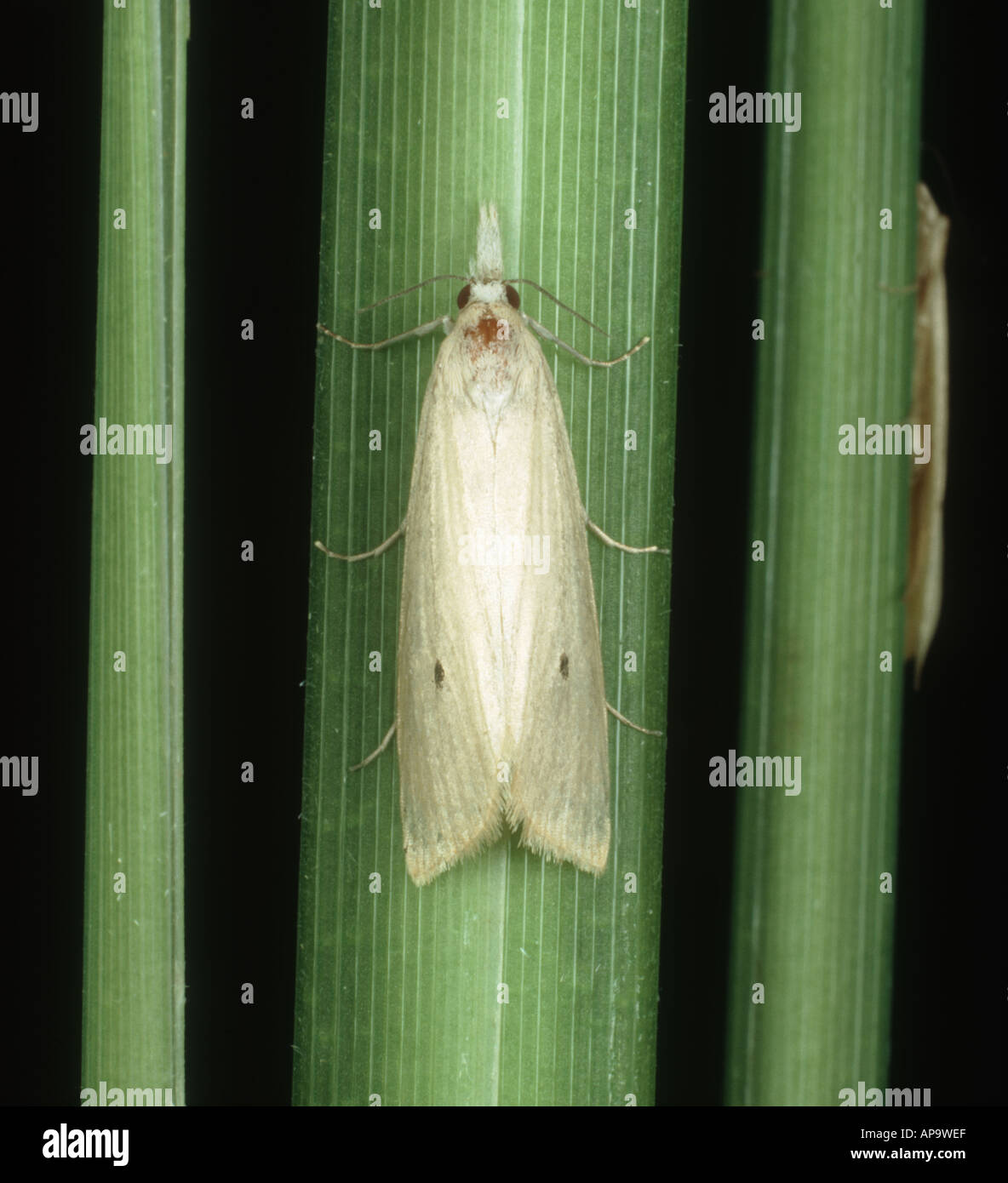Crambidae: (306, 207, 659, 888)
